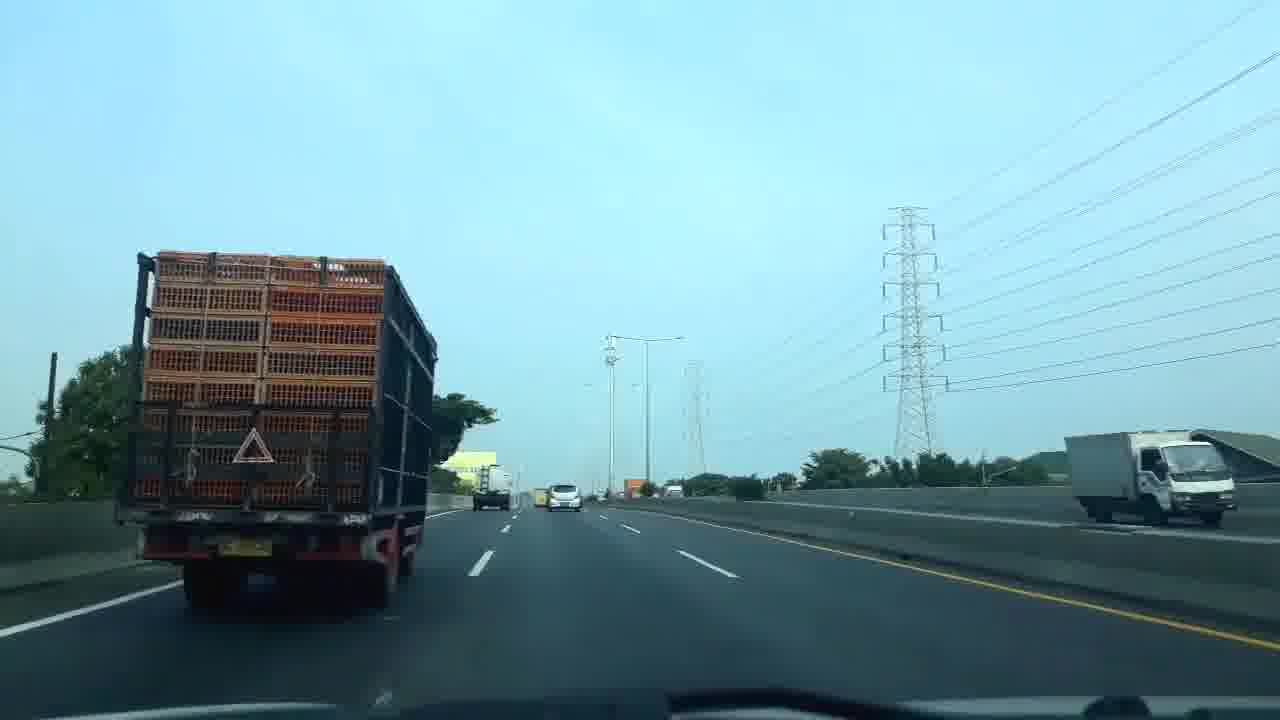plate_positive: (217, 539, 272, 557), (560, 502, 569, 506)
